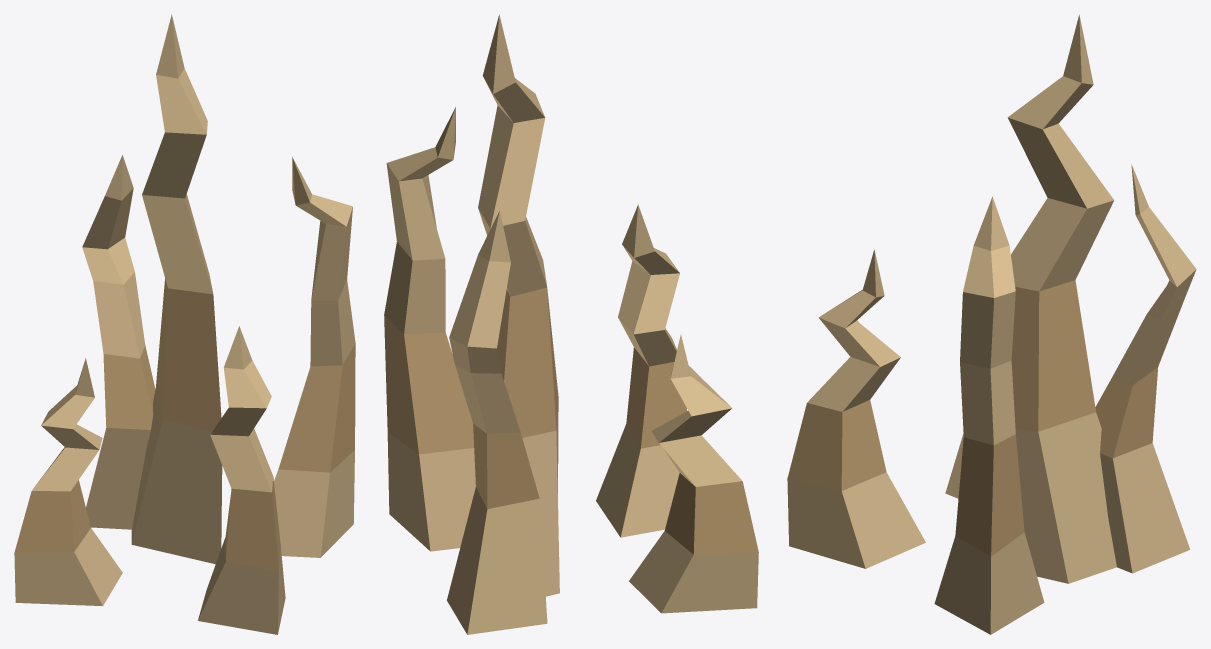
Rendered from EA_M_Env_DryTallGrass_01d.fbx.
3 renders of one model, left to right at view 1: azimuth 30°, elevation 25°; view 2: azimuth 150°, elevation 25°; view 3: azimuth 270°, elevation 25°, orthographic. The views are drawn at different scales.
Visible parts, largest first — view 1: EA_M_Env_DryTallGrass_01d_LOD0; view 2: EA_M_Env_DryTallGrass_01d_LOD0; view 3: EA_M_Env_DryTallGrass_01d_LOD0.
Boxes of the visible parts, left/top/right/bottom form: EA_M_Env_DryTallGrass_01d_LOD0: left=14, top=14, right=355, bottom=634; EA_M_Env_DryTallGrass_01d_LOD0: left=384, top=14, right=758, bottom=634; EA_M_Env_DryTallGrass_01d_LOD0: left=787, top=14, right=1196, bottom=634.
Size of what is drawn, in the model's own units: 0.2687 by 0.3894 by 0.2635.
